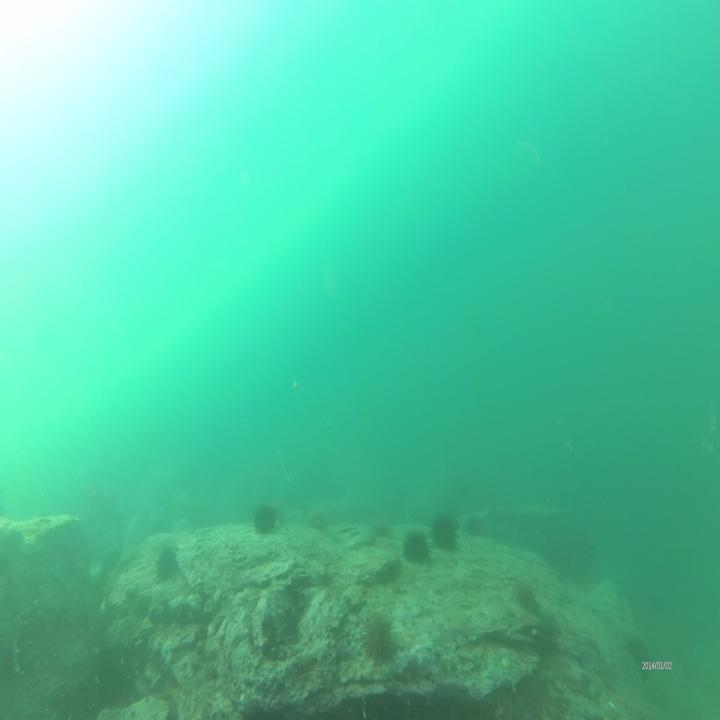echinus: (362, 612, 396, 664), (628, 634, 653, 681), (430, 511, 456, 552), (404, 527, 429, 569), (253, 503, 280, 538), (514, 578, 539, 615), (154, 545, 177, 581)
